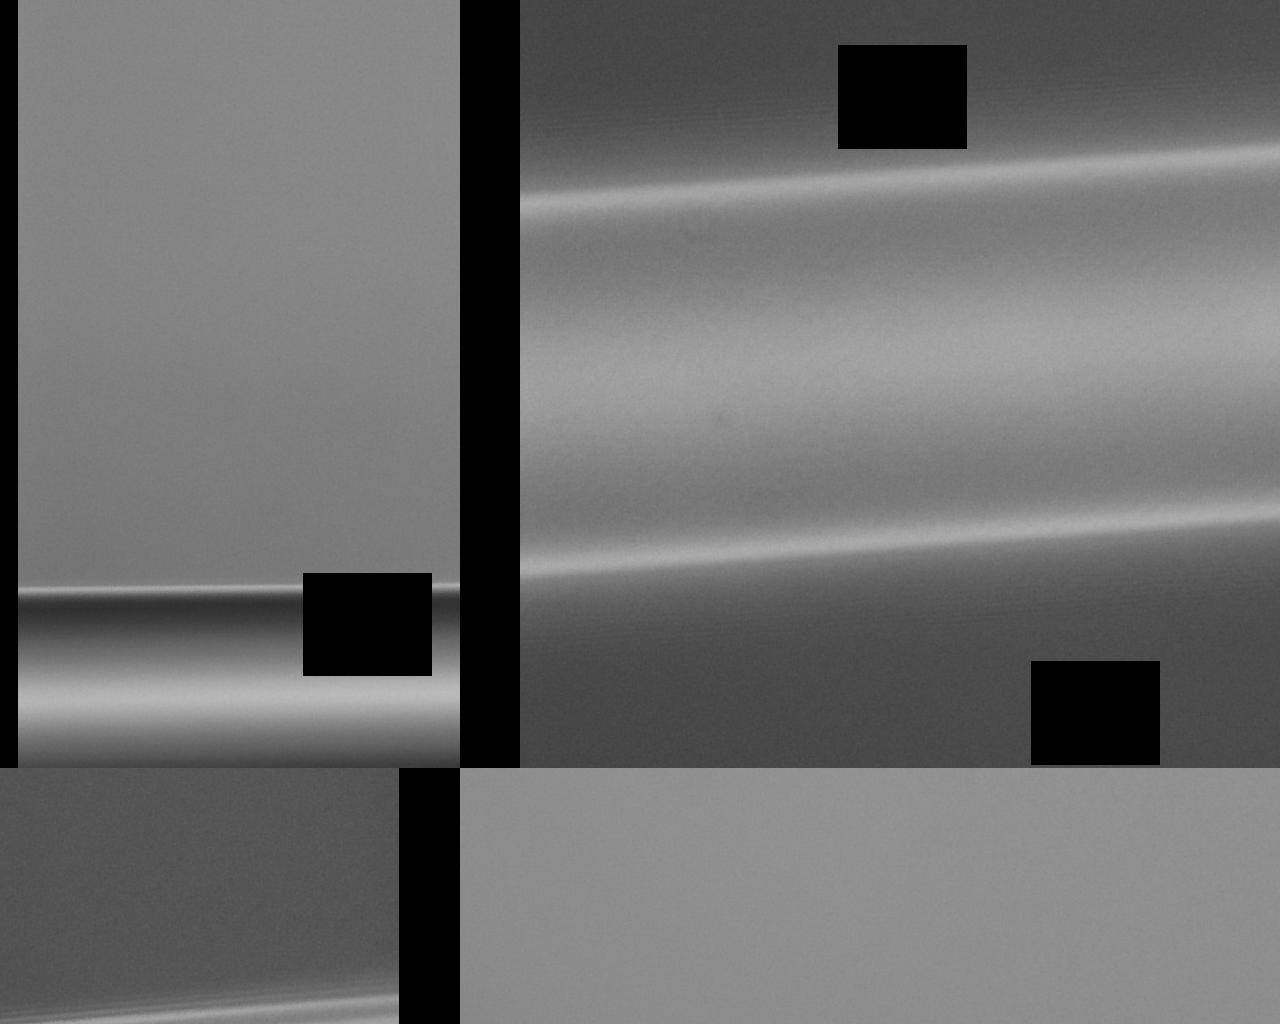fiber: (0, 66, 435, 294)
